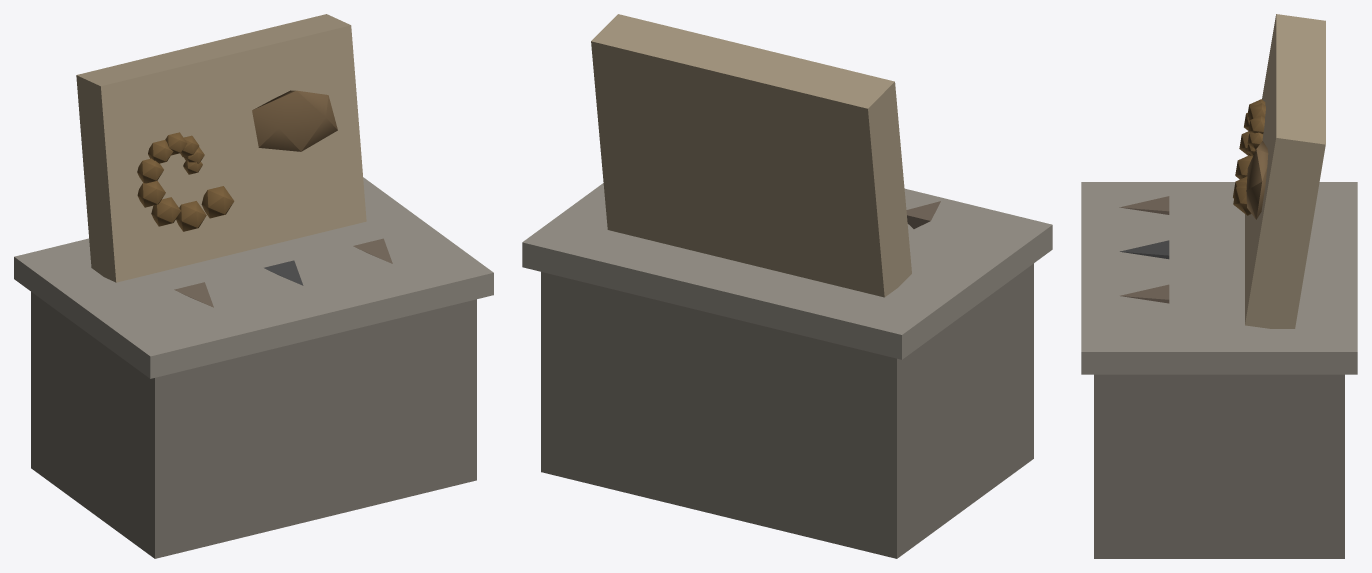
File: fossils_display.glb
3 renders of one model, left to right at view 1: azimuth 30°, elevation 25°; view 2: azimuth 150°, elevation 25°; view 3: azimuth 270°, elevation 25°, orthographic. The views are drawn at different scales.
Visible parts, largest first — view 1: decor-fossils_display; view 2: decor-fossils_display; view 3: decor-fossils_display.
Boxes of the visible parts, x1,y1,x2,y2 form: decor-fossils_display: (14, 14, 493, 558); decor-fossils_display: (522, 14, 1052, 558); decor-fossils_display: (1081, 14, 1357, 558).
Bounding box in the file's own units: 0.96 × 1.06 × 0.66.
